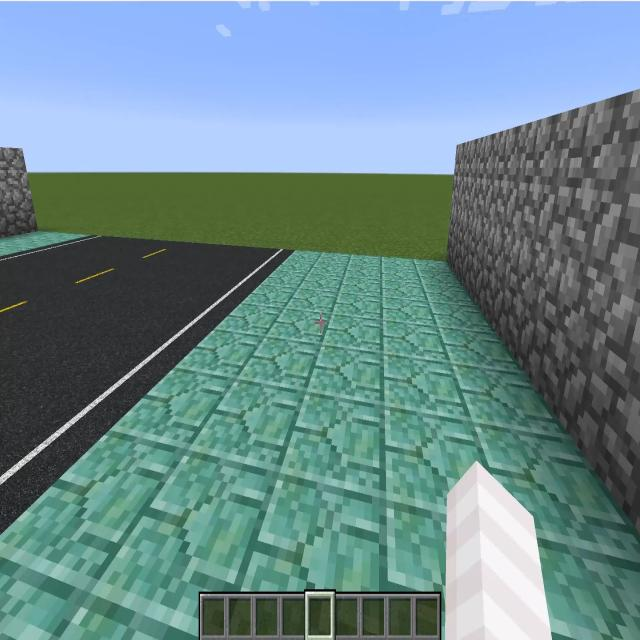road: (0, 235, 294, 536)
sidewalk: (0, 251, 640, 639), (0, 231, 88, 257)
